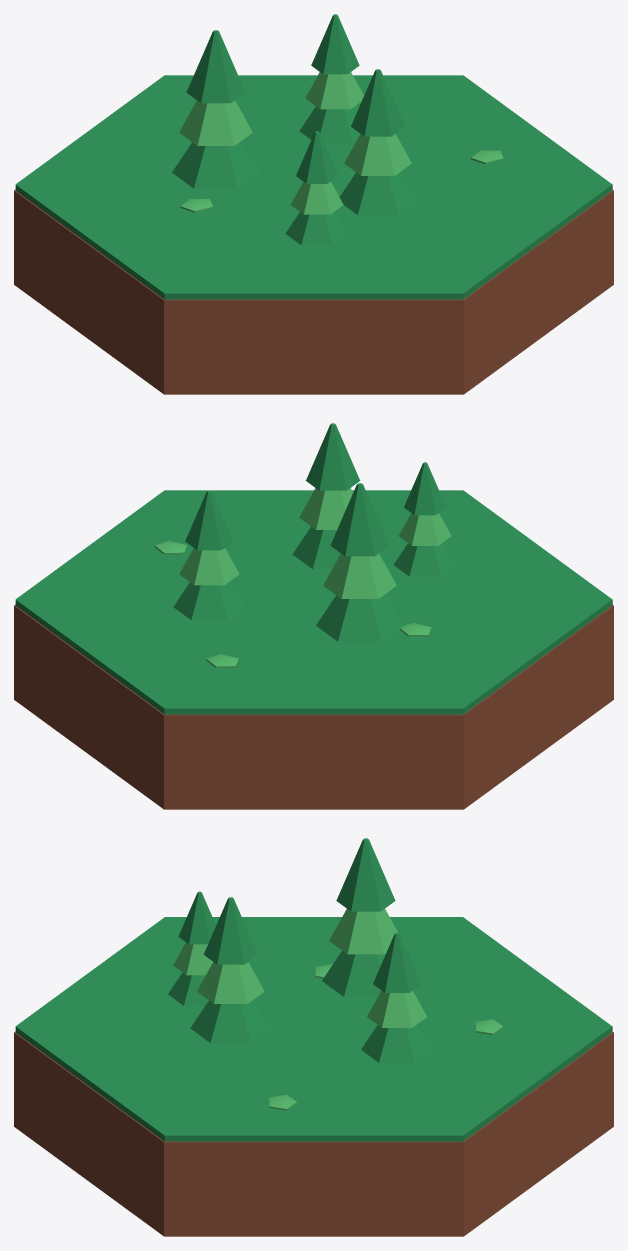
File: grass-forest.glb
3 views of the same model, one above another, from view 1: azimuth 30°, elevation 25°; view 2: azimuth 150°, elevation 25°; view 3: azimuth 270°, elevation 25° (orthographic).
Visible parts, largest first — view 1: grass_forest; view 2: grass_forest; view 3: grass_forest.
Boxes of the visible parts, left/top/right/bottom form: grass_forest: left=14, top=14, right=613, bottom=394; grass_forest: left=14, top=423, right=613, bottom=809; grass_forest: left=14, top=838, right=613, bottom=1236.
Size of the model in its own units: 1 by 0.535 by 1.15.
Materials: 1 (1 with a texture image).
